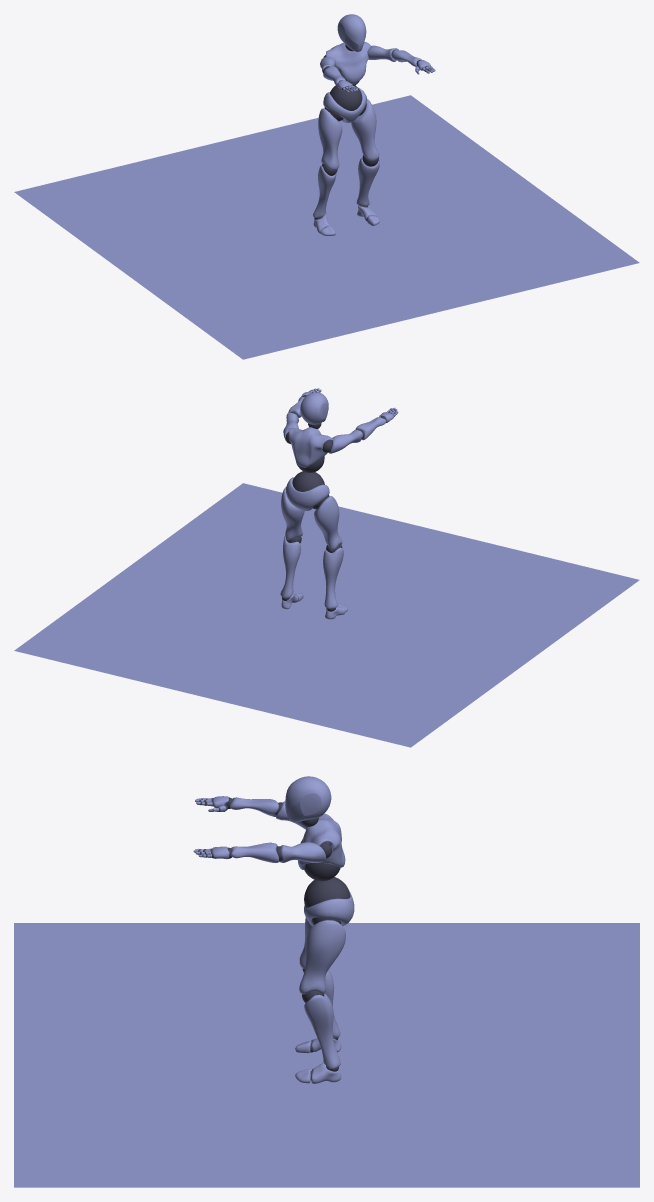
The picture shows the model from 3 angles, top to bottom: view 1: azimuth 30°, elevation 25°; view 2: azimuth 150°, elevation 25°; view 3: azimuth 270°, elevation 25°; orthographic projection. The views are drawn at different scales.
Visible parts, largest first — view 1: Beta_Joints.001; view 2: Beta_Joints.001; view 3: Beta_Joints.001.
Boxes of the visible parts, x1=… form: Beta_Joints.001: x1=14, y1=14, x2=639, y2=359; Beta_Joints.001: x1=14, y1=388, x2=639, y2=747; Beta_Joints.001: x1=14, y1=776, x2=639, y2=1187.
Bounding box in the file's own units: 3.41 × 1.74 × 3.41.
